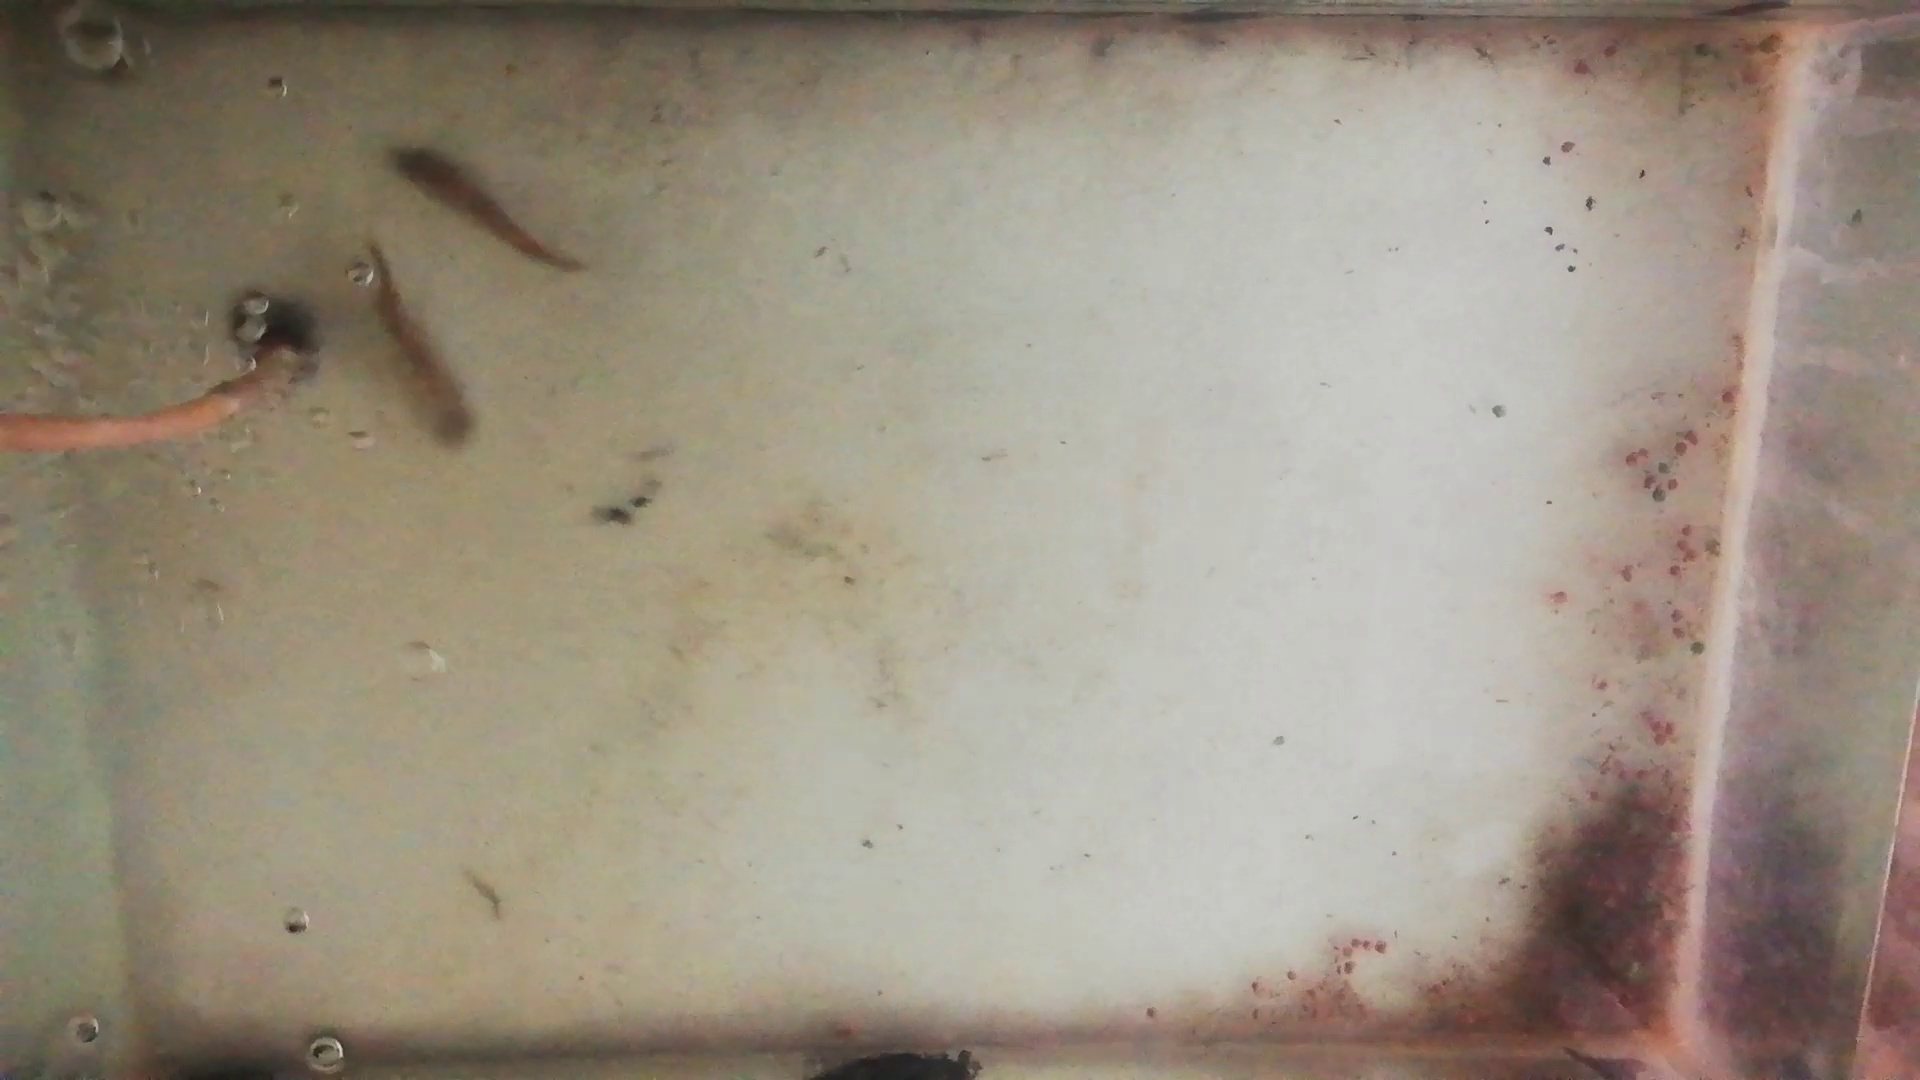fish: (381, 142, 584, 277), (367, 237, 475, 447)
